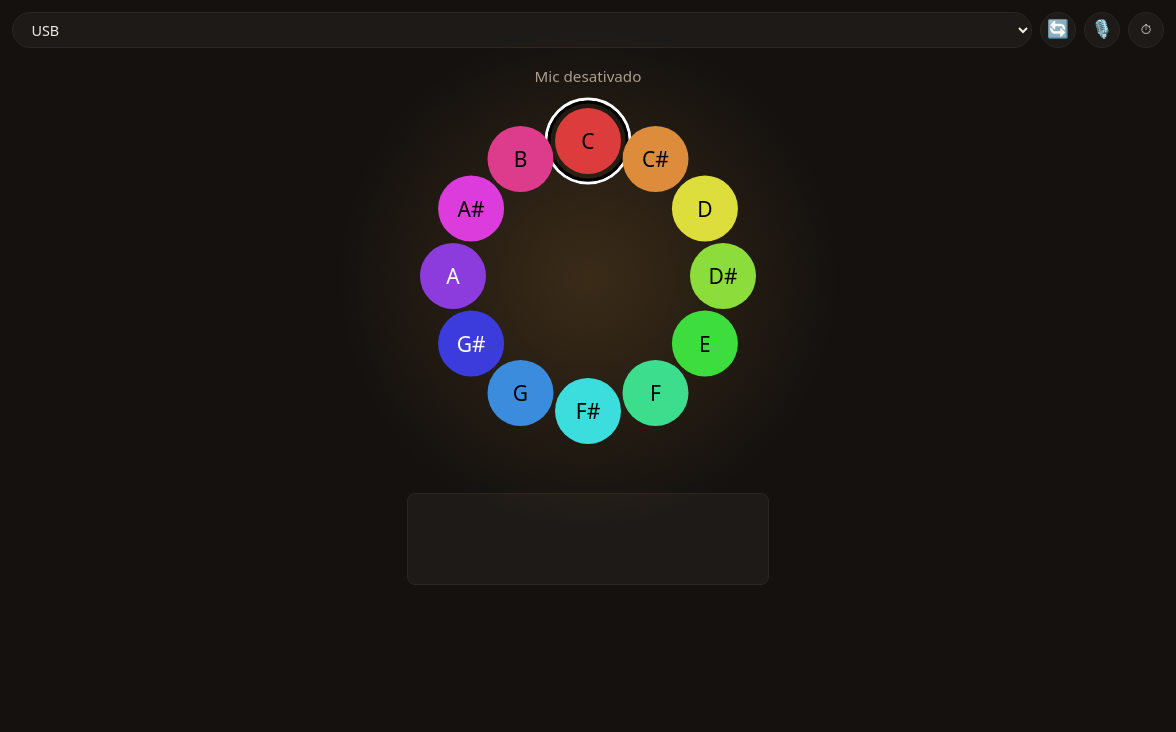
Test: InputLane › latency › disables calibration with a hint when the input is off
This screenshot has width=1176, height=732.
Click the button named "Atraso da entrada". click: x=1146, y=30
box: x1=1128 y1=12 x2=1164 y2=48
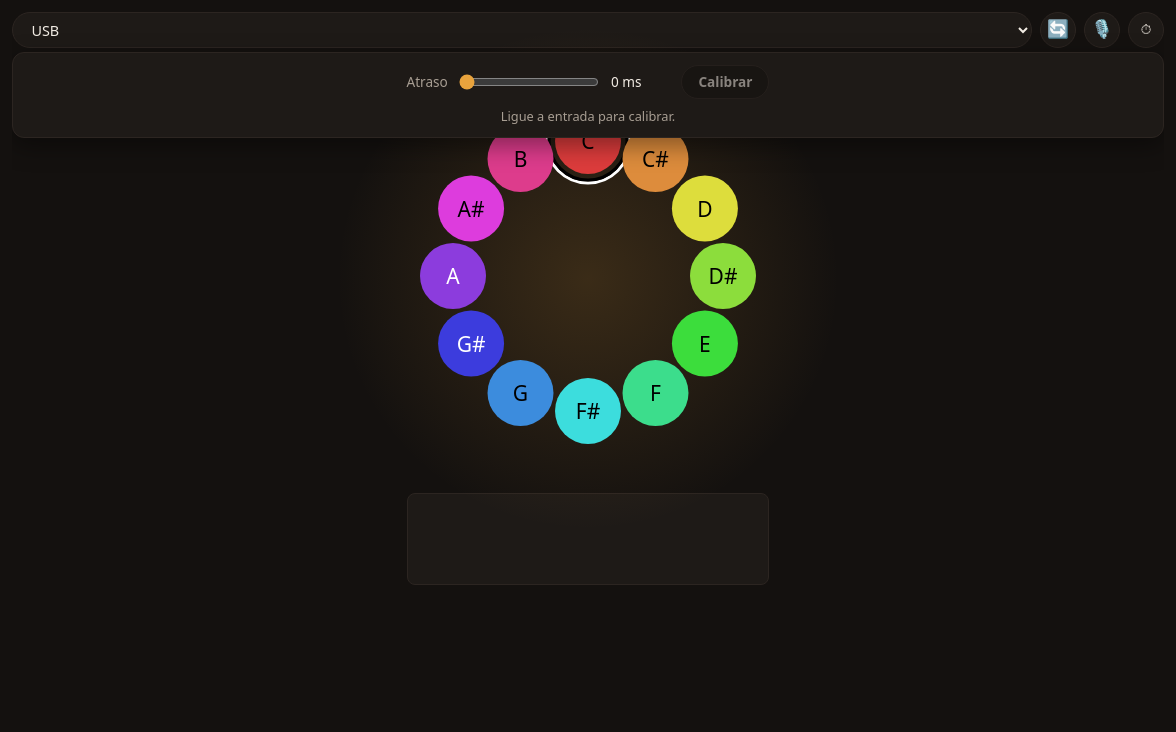
Check: the button "Calibrar" is disabled, box x1=681 y1=65 x2=770 y2=99
Check: the text "Ligue a entrada para calibrar." is shown, box x1=501 y1=107 x2=675 y2=125
